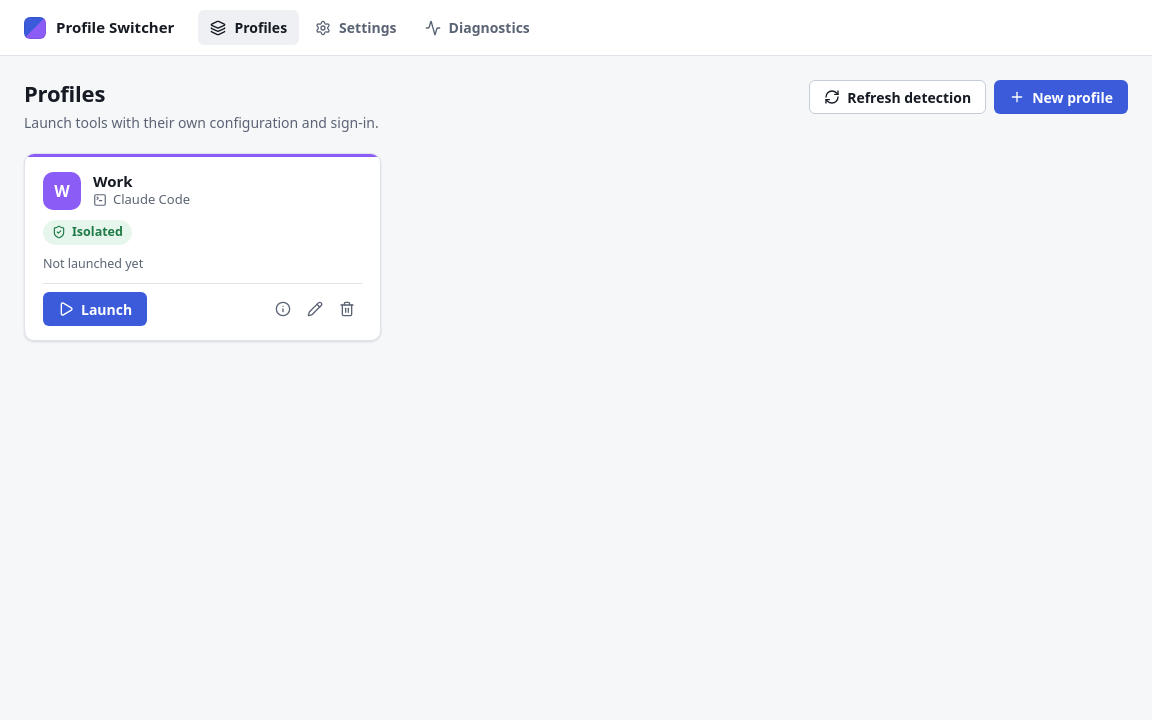
Scenario: launching › reports what failed, why, and what to do next
Click the button "Launch": click(95, 309) [43,292,147,326]
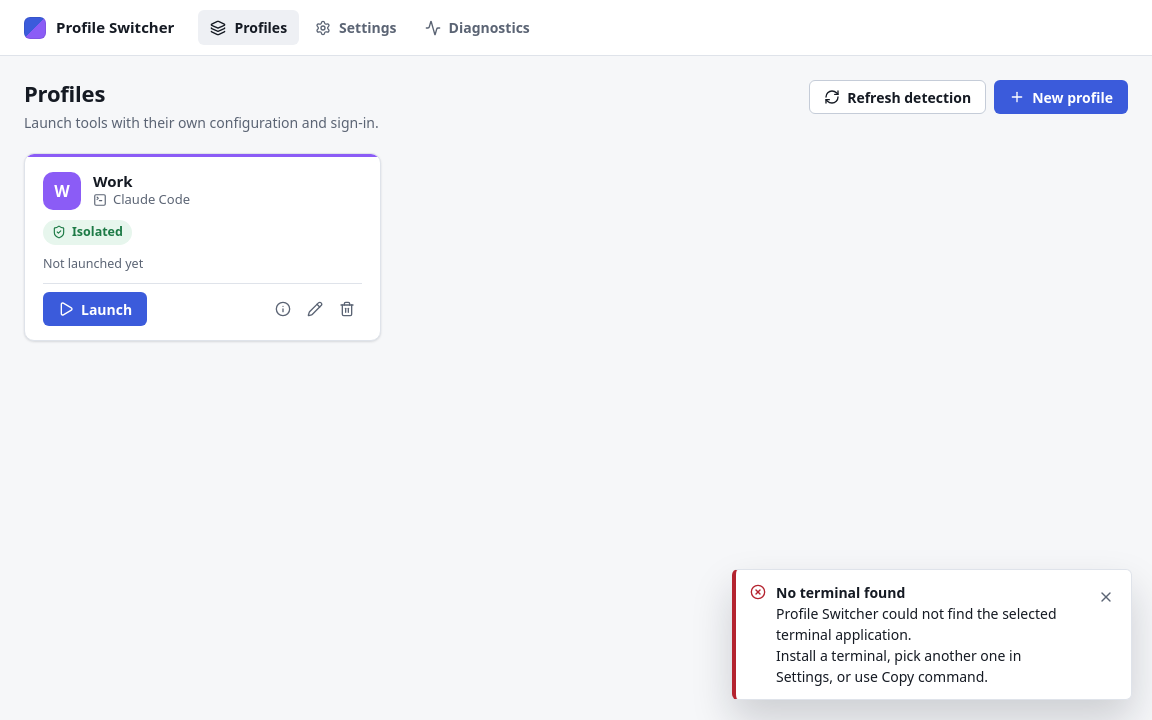
Now the message shows "No terminal found", box [776,583,905,602]
Now the message shows "Profile Switcher could not find the selected terminal application.", box [776,604,1056,644]
Now the message shows "Install a terminal, pick another one in Settings, or use Copy command.", box [776,646,1021,686]
